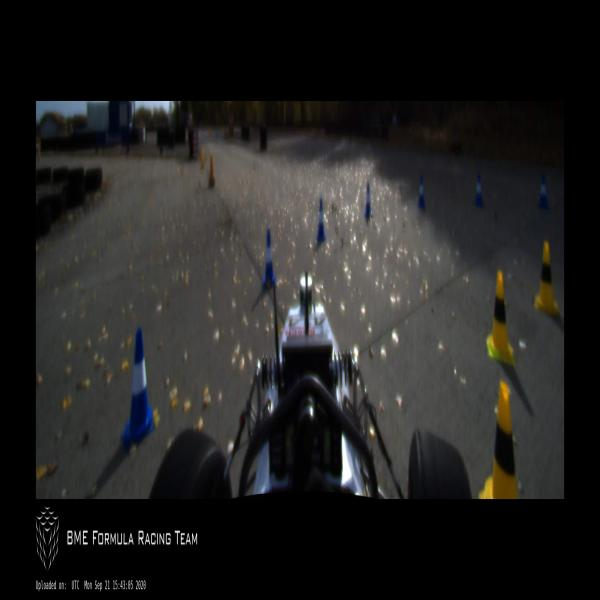blue_cone: (121, 326, 155, 454), (262, 230, 276, 287), (315, 199, 326, 239), (538, 173, 548, 211), (474, 172, 484, 207), (417, 177, 425, 208), (364, 184, 372, 214)
yellow_cone: (479, 381, 518, 498), (485, 272, 514, 366), (534, 244, 557, 314)
